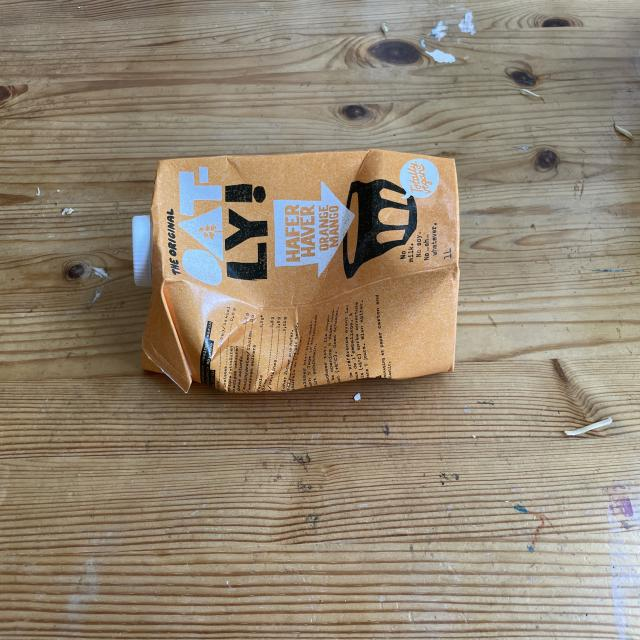non_white_jug: (130, 154, 460, 398)
